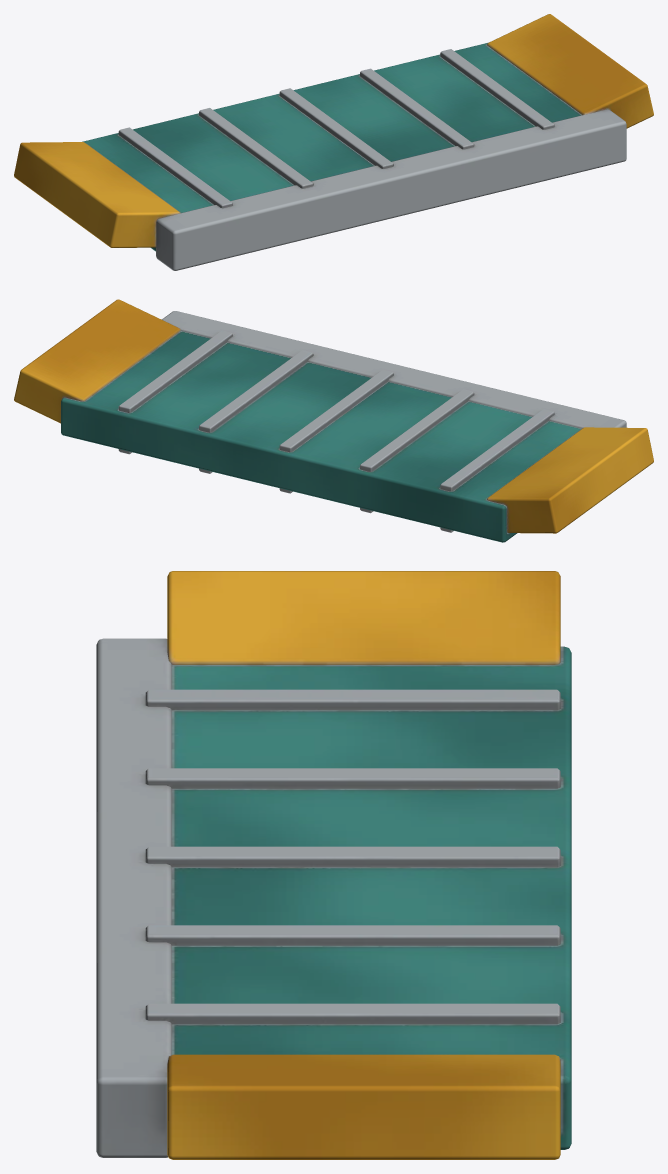
File: wing-v001.glb
The picture shows the model from 3 angles, top to bottom: view 1: azimuth 30°, elevation 25°; view 2: azimuth 150°, elevation 25°; view 3: azimuth 270°, elevation 25°; orthographic projection. The views are drawn at different scales.
Visible parts, largest first — view 1: Wing; view 2: Wing; view 3: Wing.
Boxes of the visible parts, left/top/right/bottom form: Wing: left=14, top=14, right=653, bottom=270; Wing: left=14, top=299, right=653, bottom=542; Wing: left=96, top=571, right=571, bottom=1159.
Size of the model in its own units: 1.15 by 0.1523 by 0.435.
Materials: 1 (1 with a texture image).
